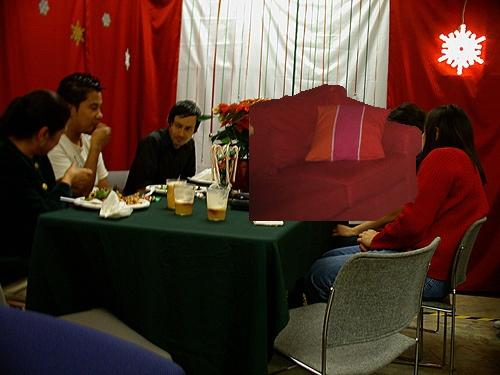tampered: (250, 85, 422, 221)
